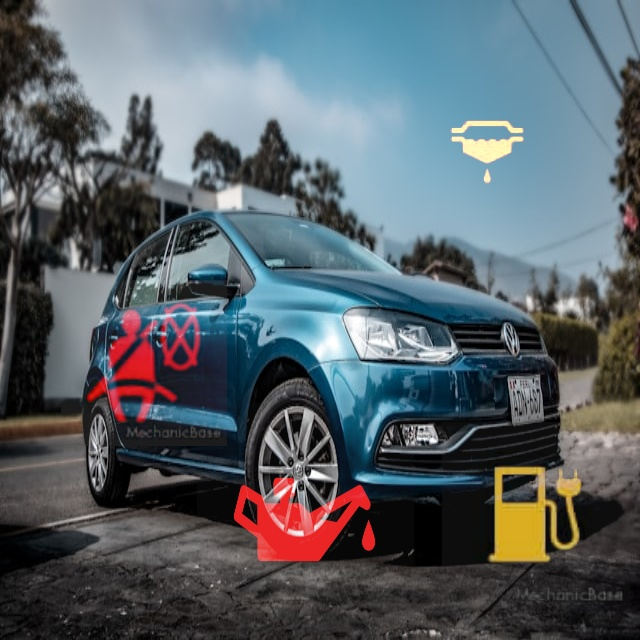symbol: (197, 403, 414, 620), (442, 422, 630, 610), (61, 280, 227, 446), (418, 83, 558, 223)
